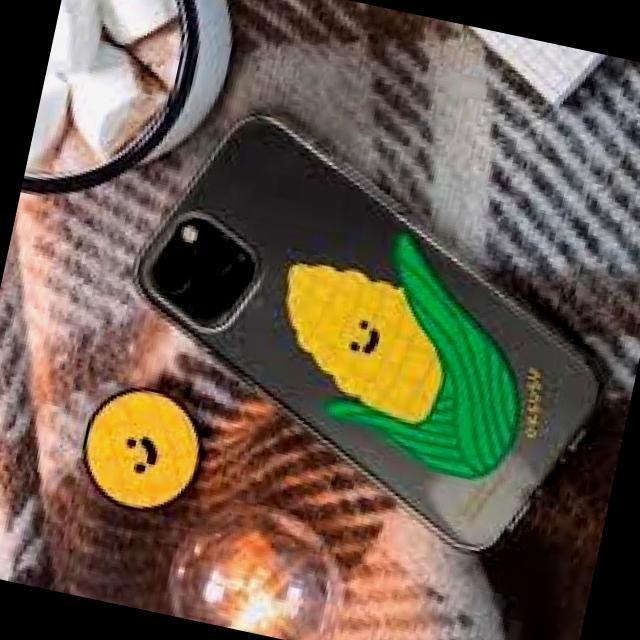lens_back: (182, 274, 240, 327), (191, 232, 243, 281), (150, 249, 196, 298)
phone: (83, 92, 640, 579)
